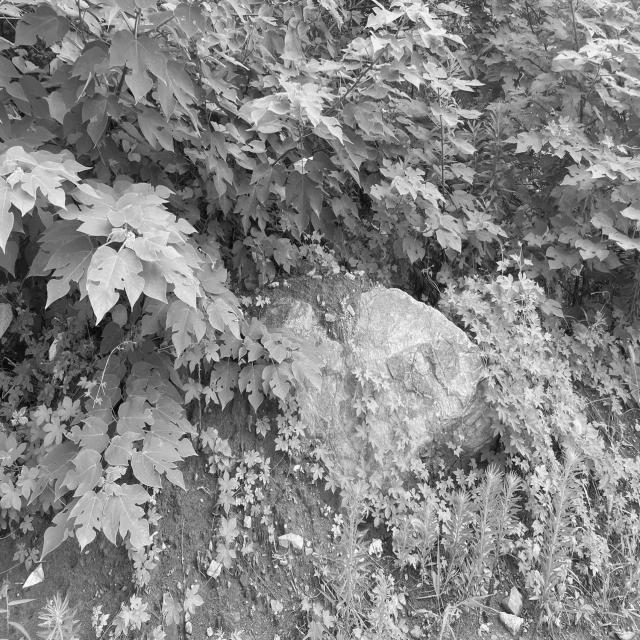Stone: (260, 275, 492, 473)
